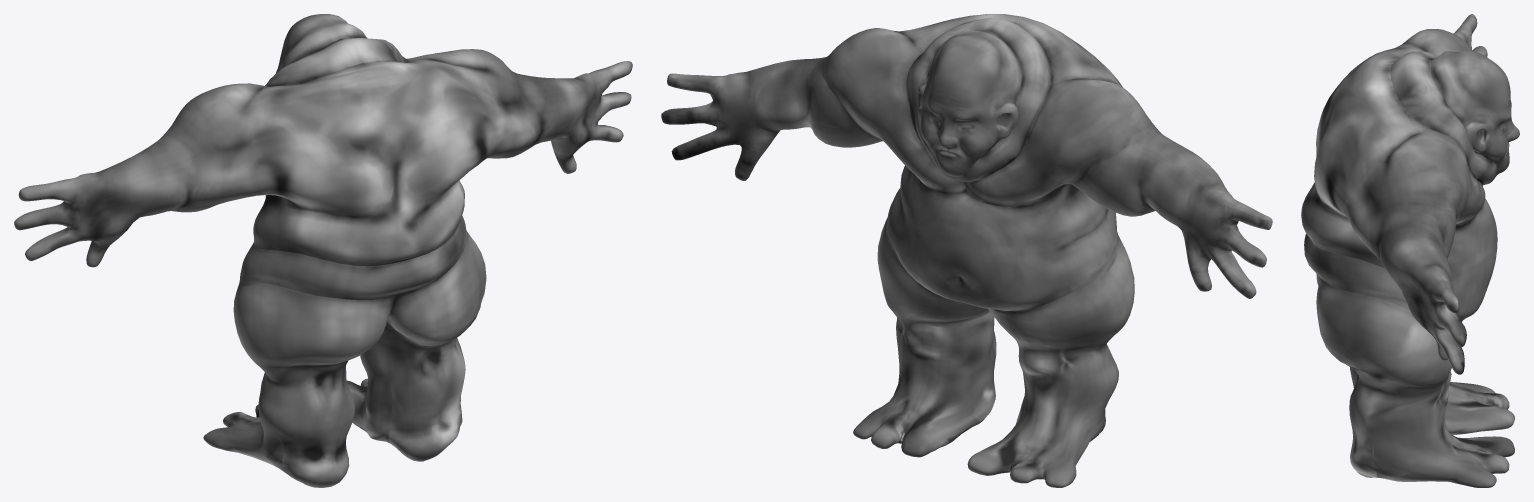
Rendered from fatty.glb.
3 views of the same model, side by side, from view 1: azimuth 30°, elevation 25°; view 2: azimuth 150°, elevation 25°; view 3: azimuth 270°, elevation 25° (orthographic). The views are drawn at different scales.
Parts seen in each view (by area): view 1: fat_man_Plane.002; view 2: fat_man_Plane.002; view 3: fat_man_Plane.002.
Part boxes in pixels (x1,y1,x2,y2): fat_man_Plane.002: (14, 14, 632, 487); fat_man_Plane.002: (661, 14, 1272, 487); fat_man_Plane.002: (1301, 14, 1519, 487).
Bounding box in the file's own units: 6.39 × 4.23 × 2.1.
Materials: 2 (2 with a texture image).
